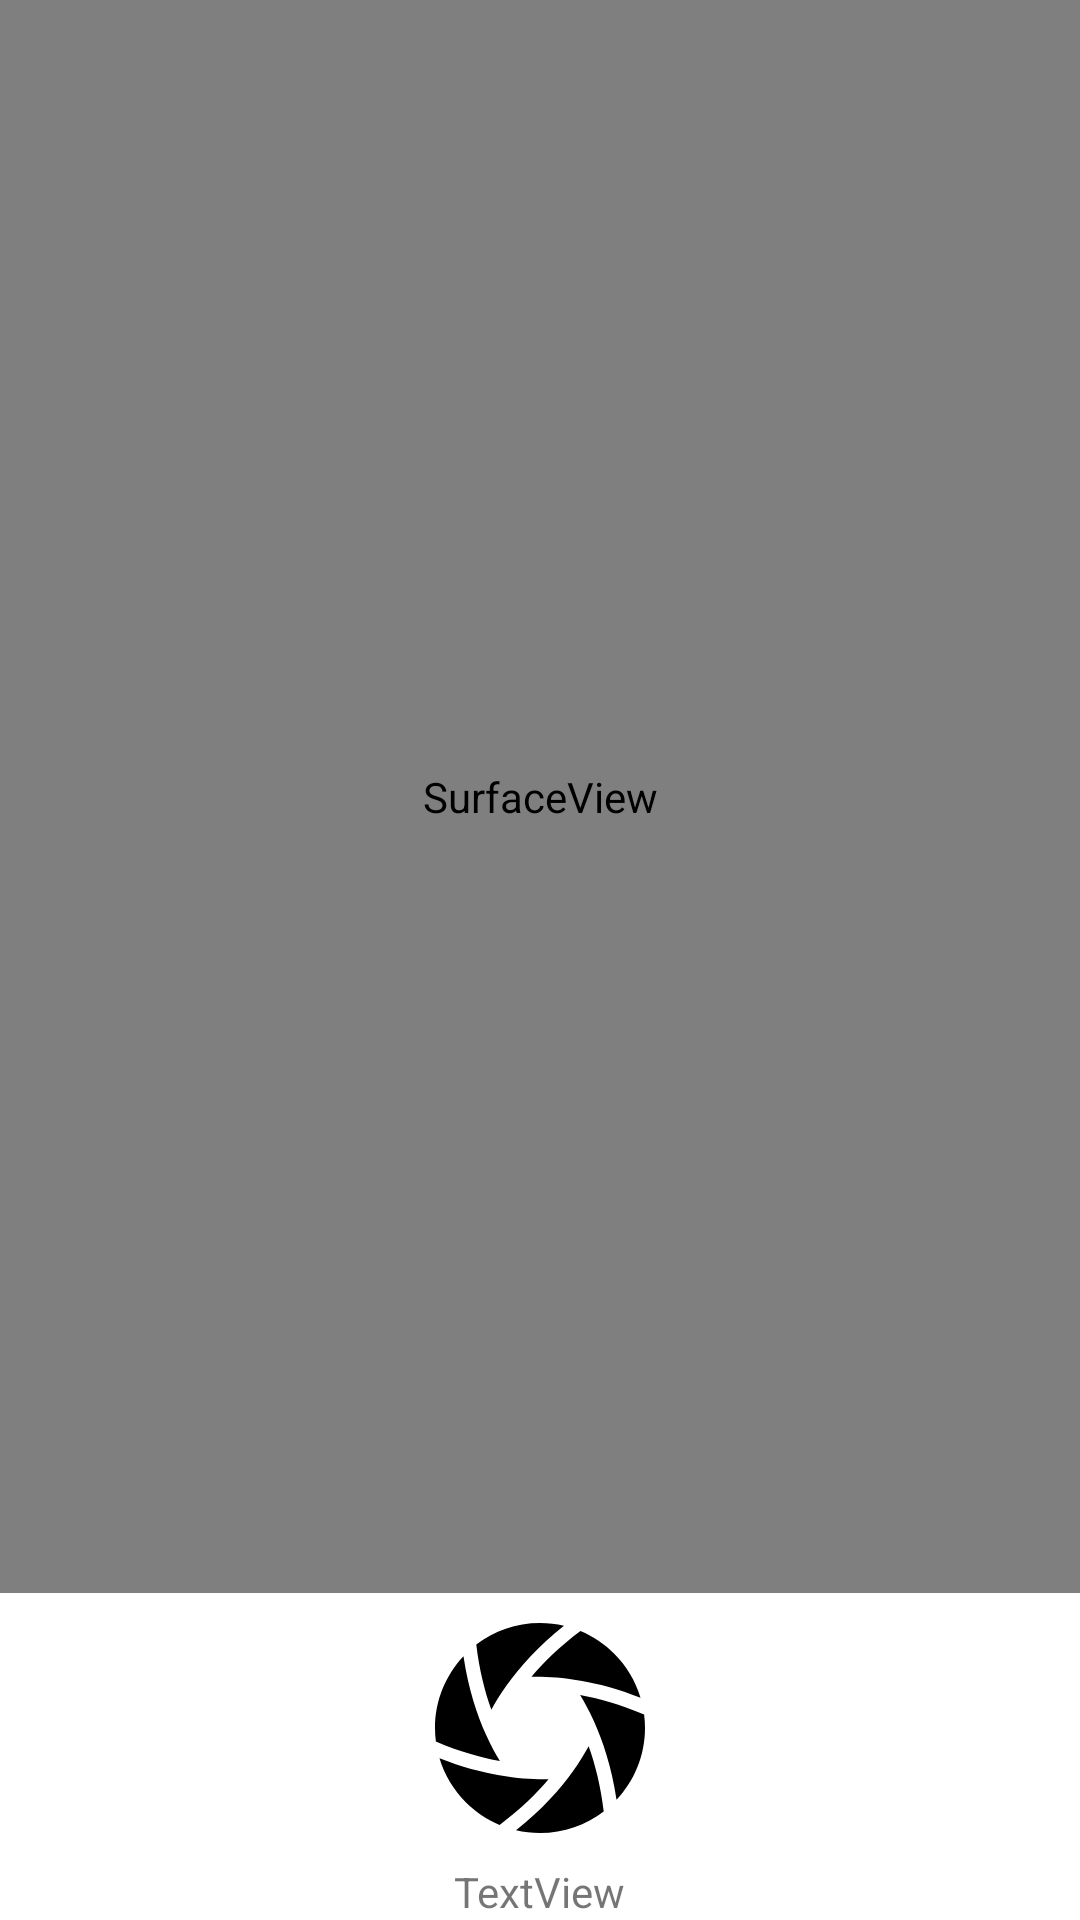

Screen size 1080×1920. Icon name, then its center in pixels as point (x, y):
shutter: point (540, 1728)
